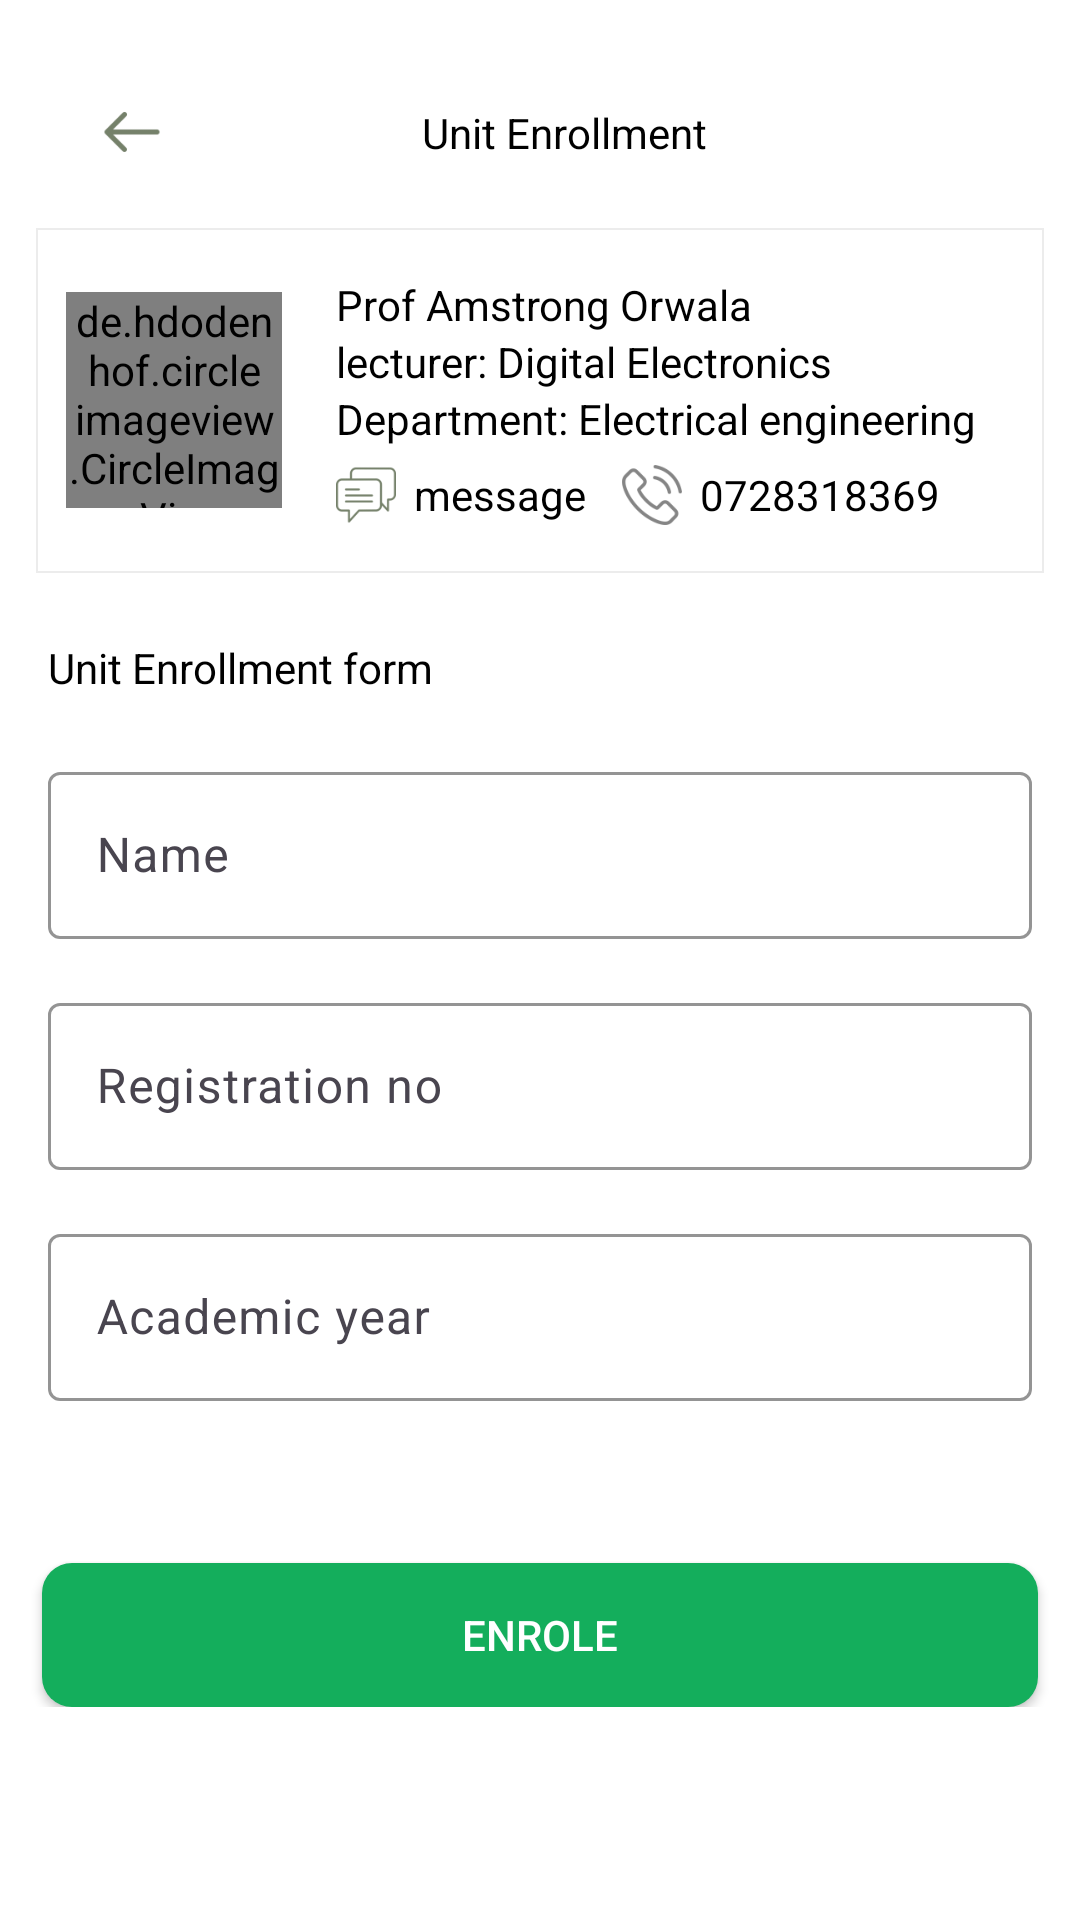

Icon click points for this 1080×1920 phone screenshot, format (x,y):
back arrow: (132,132)
chats: (366,495)
pone: (652,495)
